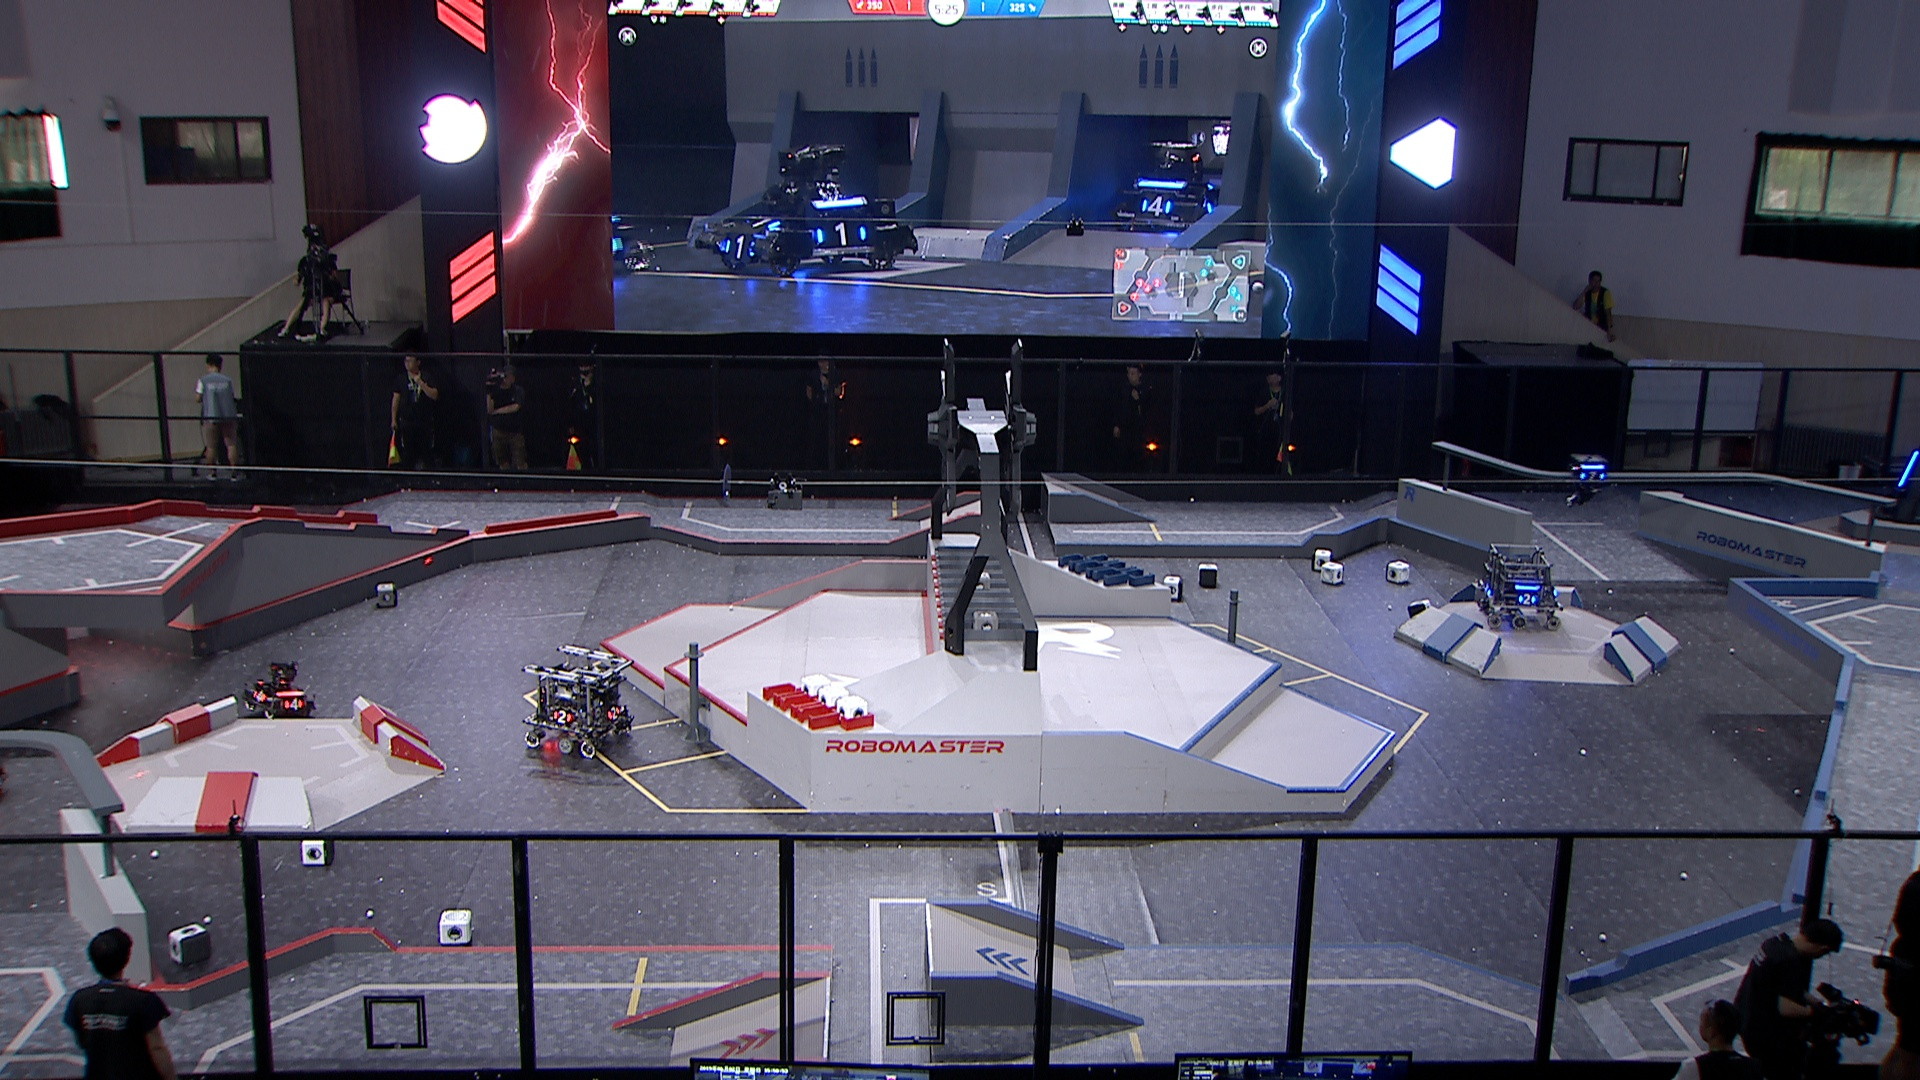armor: (1896, 452, 1920, 491), (551, 708, 572, 727), (1578, 469, 1604, 483), (1480, 583, 1495, 599), (1520, 589, 1538, 604), (605, 704, 621, 719), (286, 698, 305, 709), (251, 688, 266, 702)
base: (1875, 436, 1920, 527)
car: (518, 644, 636, 760), (1472, 538, 1563, 632), (243, 659, 314, 723)
ignore: (699, 138, 913, 277), (1120, 142, 1218, 232), (603, 208, 657, 277)
watcher: (1565, 446, 1615, 504)
